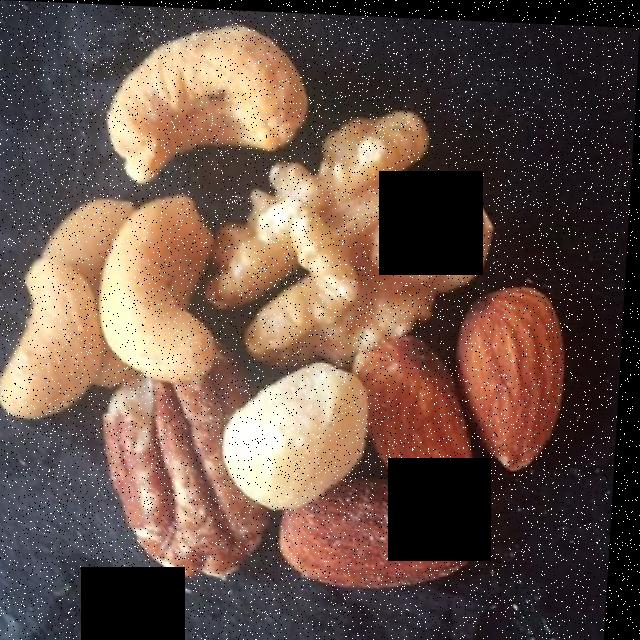mixed-nuts: (0, 28, 573, 604)
